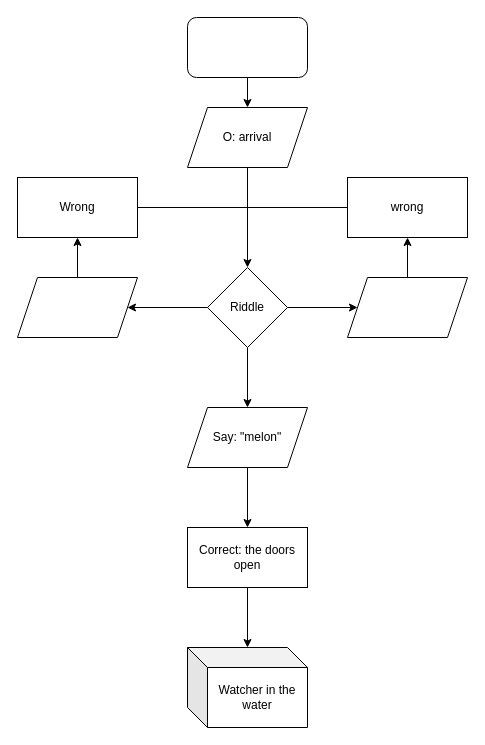
Some shapes in this 485 by 745 pixel diagram are drawn without their labels. Each missing label, with the centre of its shape:
Knock on the door: pixel 407 307
Say: "edro": pixel 77 307
Start: Gate Riddle: pixel 247 47
